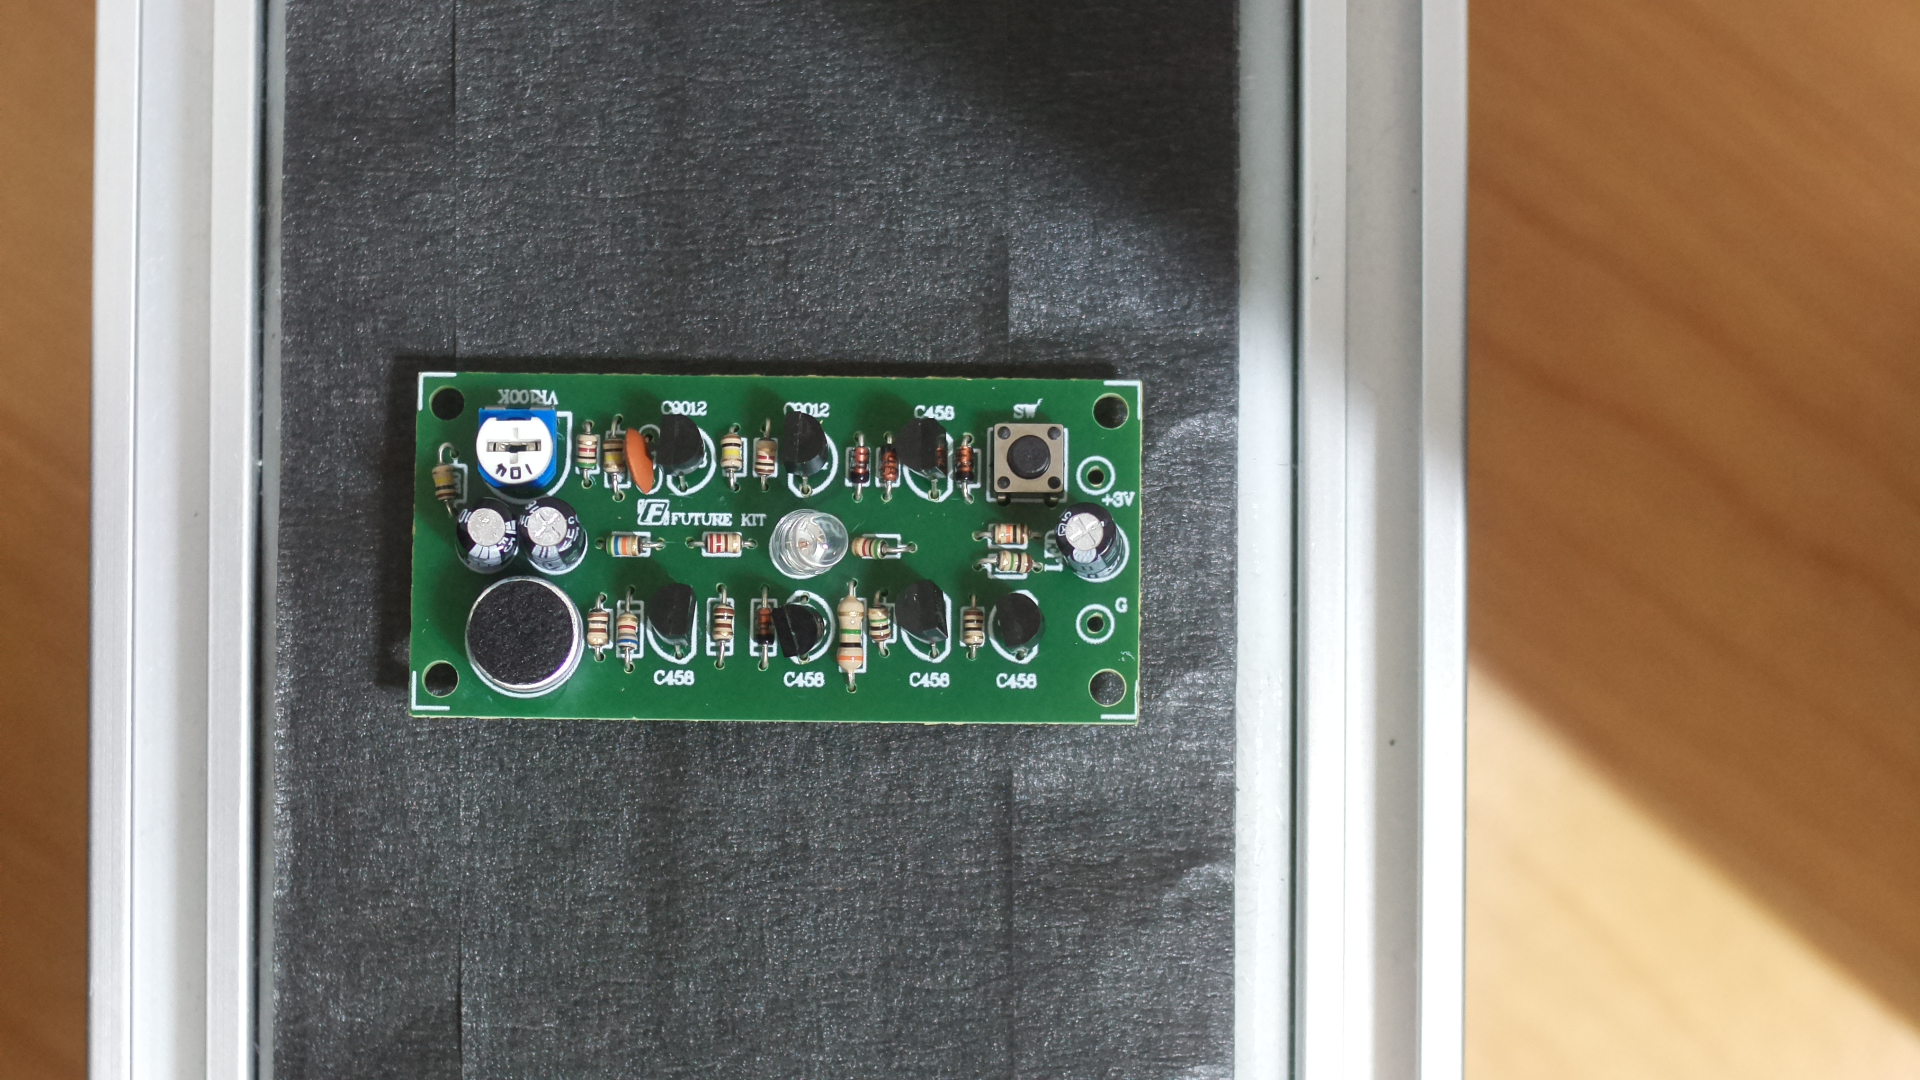A_Misordered: (400, 351, 1166, 746)
